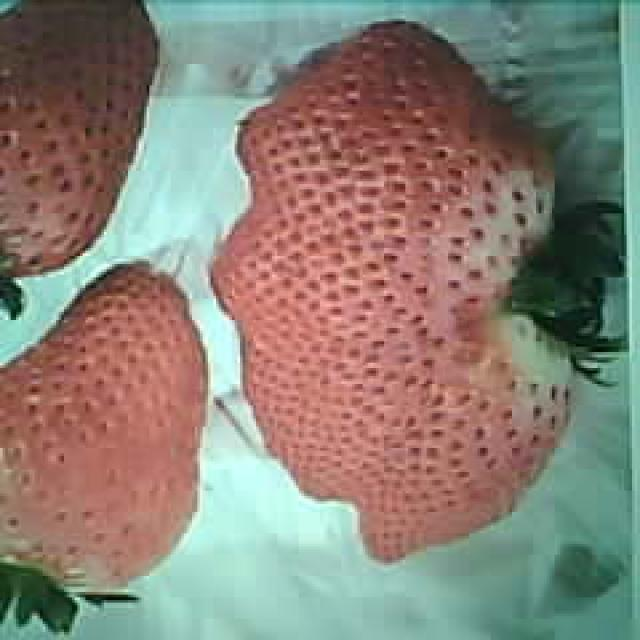Healthy Fruit: (208, 18, 583, 564), (0, 260, 208, 593), (0, 0, 158, 277)
